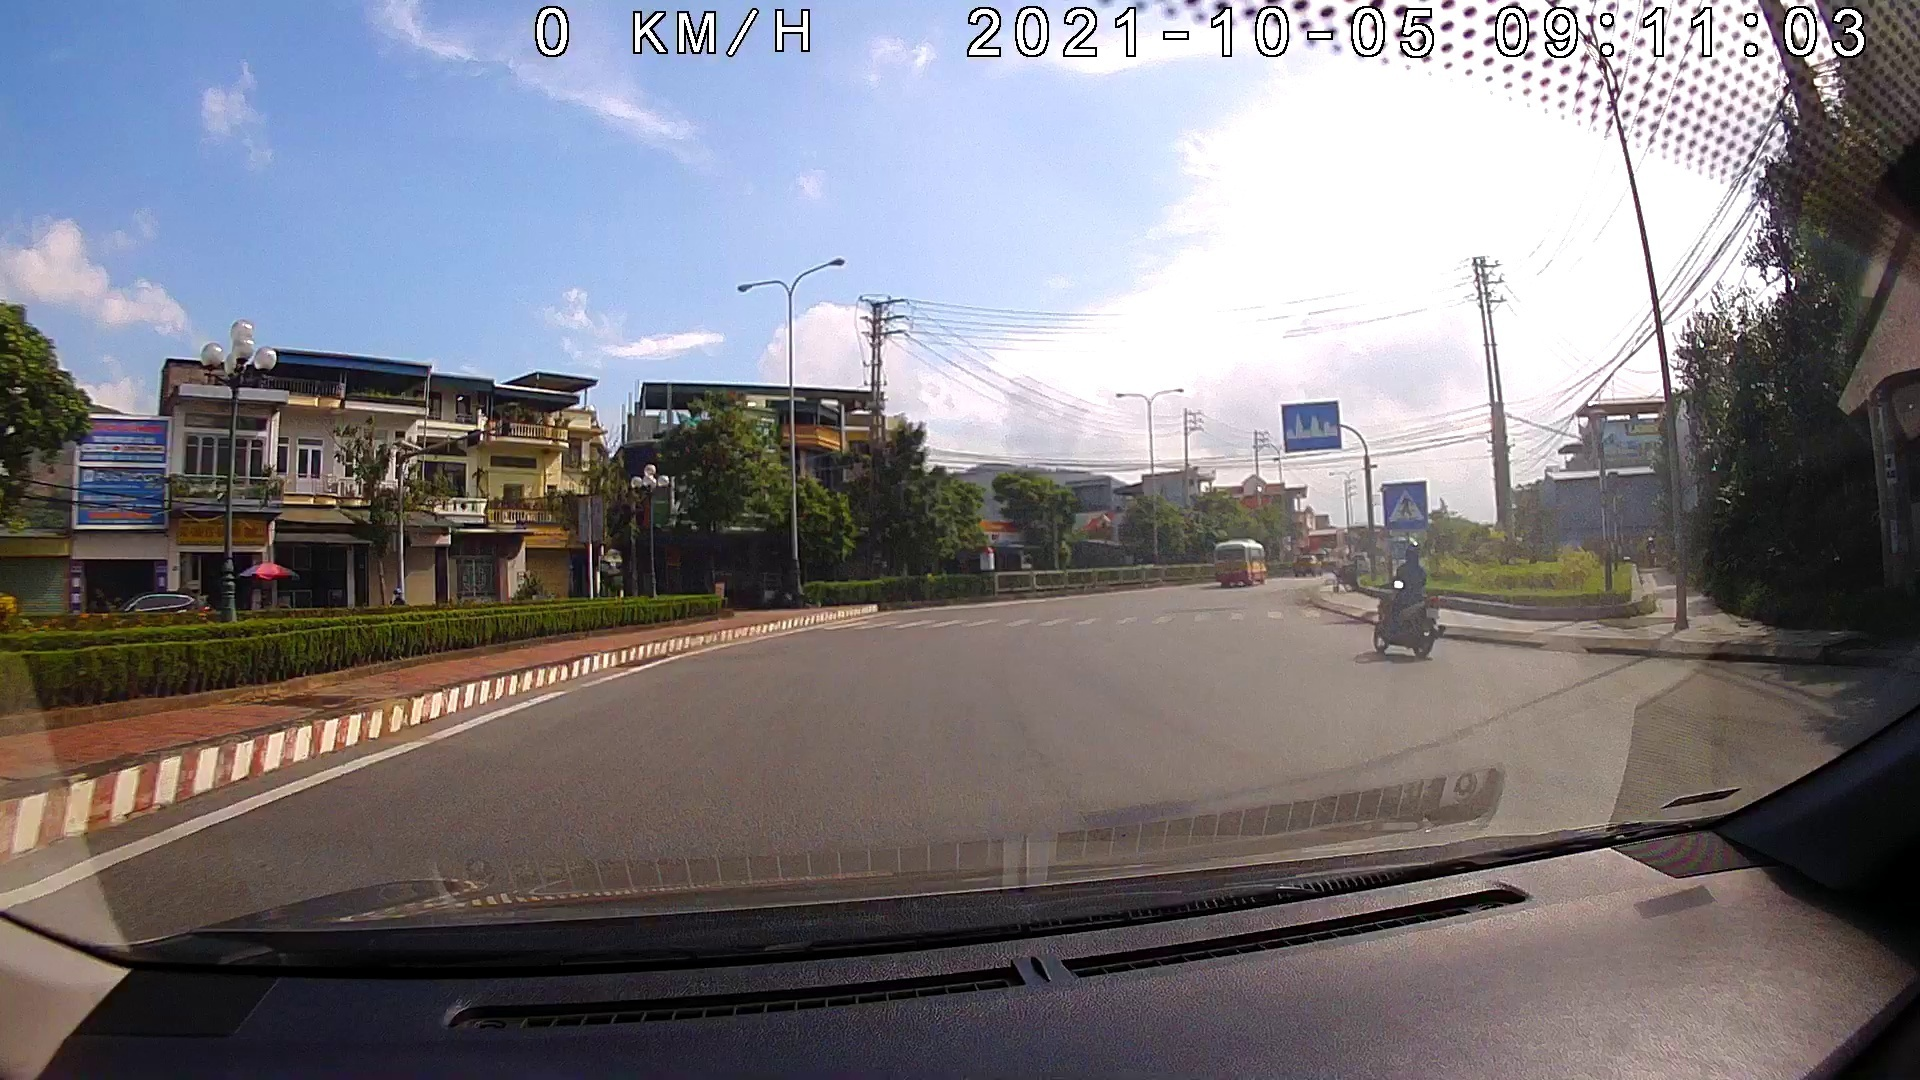Bien khac: (1280, 398, 1344, 451)
Nguoi di bo: (1381, 479, 1431, 531)
